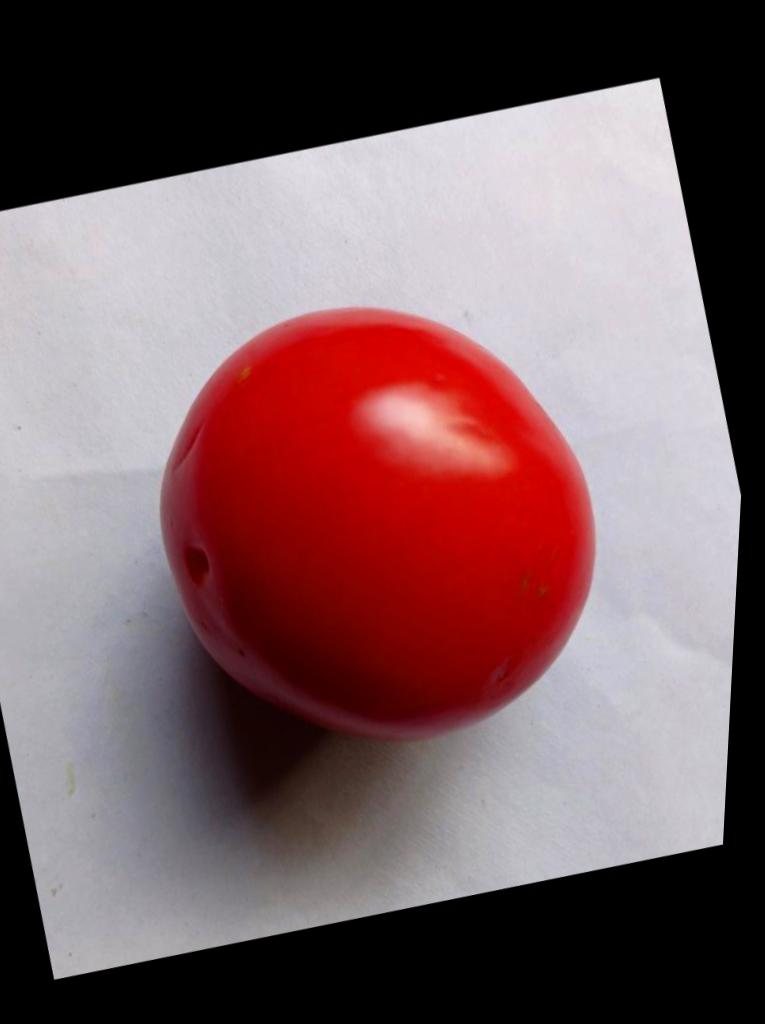surface_damage: (514, 571, 532, 597), (234, 364, 253, 385), (533, 583, 550, 598)
tomato: (160, 308, 592, 738)
